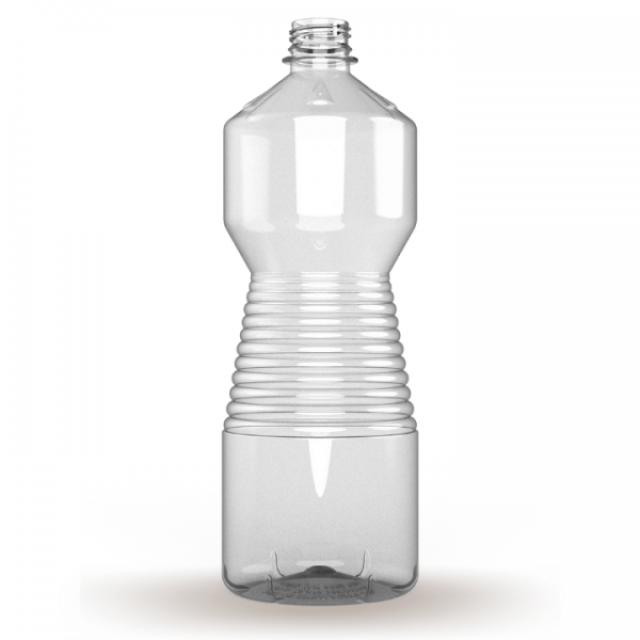bottom: (222, 426, 418, 604)
neck: (225, 19, 415, 139)
